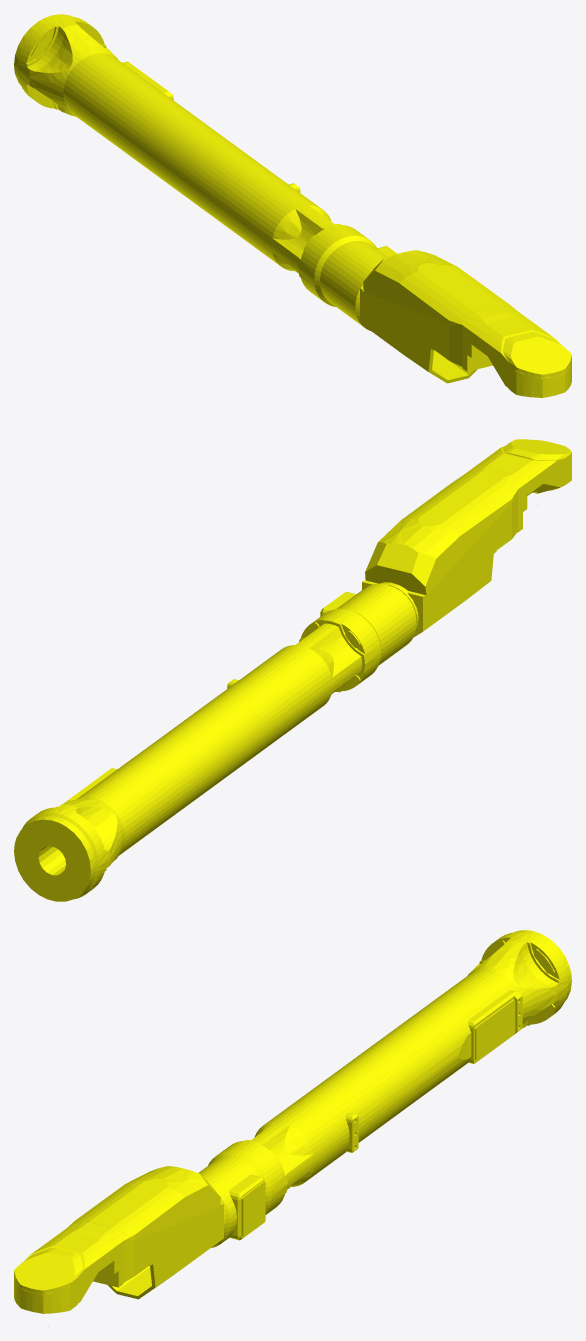
3 views of the same model, one above another, from view 1: azimuth 30°, elevation 25°; view 2: azimuth 150°, elevation 25°; view 3: azimuth 330°, elevation 25° (orthographic).
Visible parts, largest first — view 1: node; view 2: node; view 3: node.
Part boxes in pixels (box(x1,y1,x2,y2)): node: box(14, 14, 571, 397); node: box(14, 439, 571, 901); node: box(14, 930, 571, 1326).
Bounding box in the file's own units: 146 × 182 × 1562.
